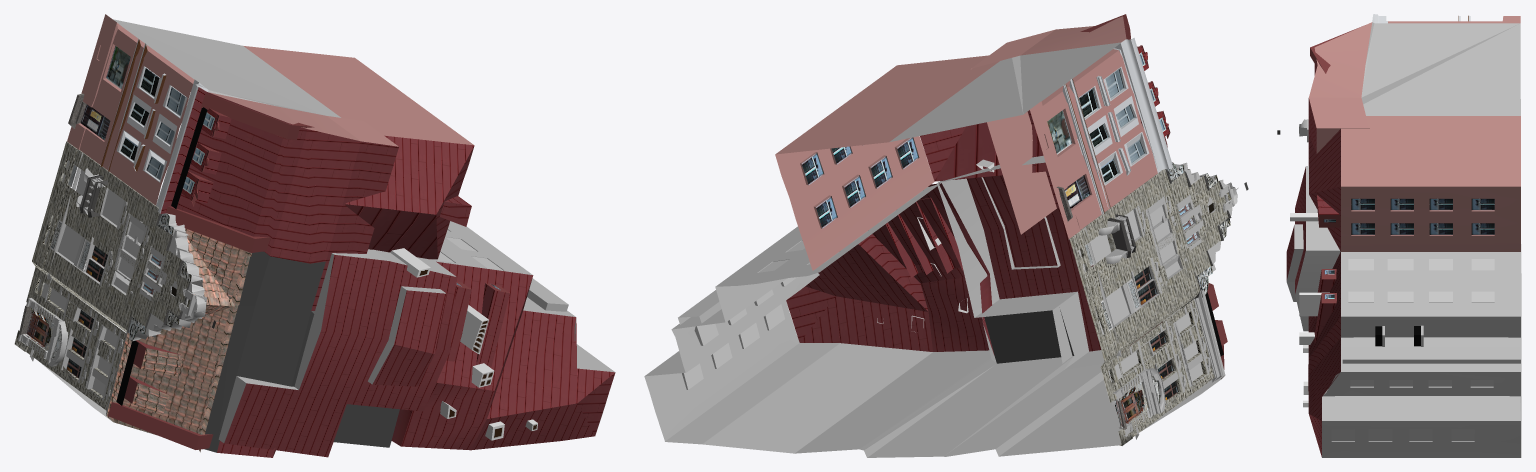
The model's file is Harju_9-origo.obj.
The picture shows the model from 3 angles, left to right: view 1: azimuth 30°, elevation 25°; view 2: azimuth 150°, elevation 25°; view 3: azimuth 270°, elevation 25°; orthographic projection. The views are drawn at different scales.
Visible parts, largest first — view 1: Harju_9; view 2: Harju_9; view 3: Harju_9.
Part boxes in pixels (bbox=[...]): Harju_9: bbox=[14, 14, 615, 457]; Harju_9: bbox=[644, 14, 1248, 457]; Harju_9: bbox=[1277, 14, 1521, 457].
Bounding box in the file's own units: 37.81 × 31.5 × 22.46.
